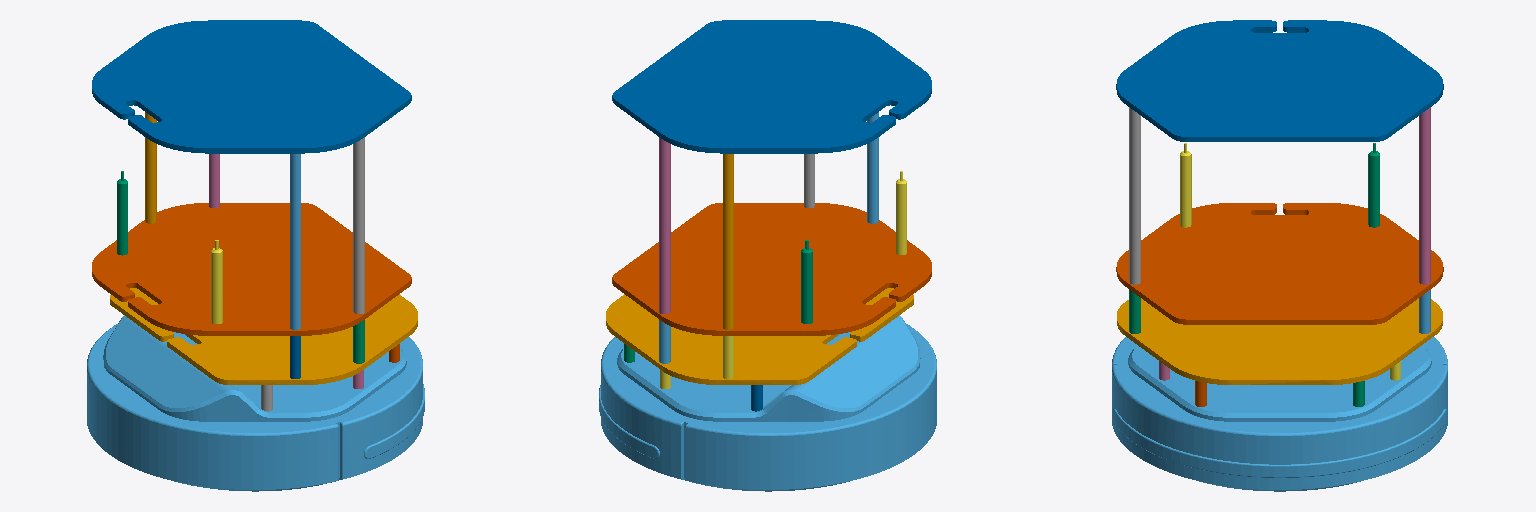
--- Render facts (derived) ---
The picture shows the robot from 3 angles, left to right: view 1: azimuth 30°, elevation 25°; view 2: azimuth 150°, elevation 25°; view 3: azimuth 270°, elevation 25°; orthographic projection.
Model turtlebot with 34 links and 33 joints (2 continuous, 31 fixed), rooted at base_footprint, posed every joint at zero.
Links seen in each view (by area): view 1: base_link, plate_top_link, plate_middle_link, plate_bottom_link, pole_top_1_link, pole_top_3_link, pole_top_2_link, pole_kinect_1_link, pole_kinect_0_link, pole_top_0_link; view 2: base_link, plate_top_link, plate_middle_link, plate_bottom_link, pole_top_0_link, pole_top_2_link, pole_top_3_link, pole_kinect_0_link, pole_kinect_1_link, pole_top_1_link; view 3: base_link, plate_top_link, plate_middle_link, plate_bottom_link, pole_top_0_link, pole_top_1_link, pole_kinect_0_link, pole_kinect_1_link.
Link boxes in pixels (x1,y1,x2,y2): base_link: (87,315,424,491); plate_top_link: (92,20,411,153); plate_middle_link: (92,203,411,335); plate_bottom_link: (110,288,417,384); pole_top_1_link: (353,137,364,313); pole_top_3_link: (290,154,300,329); pole_top_2_link: (145,112,156,223); pole_kinect_1_link: (211,240,222,323); pole_kinect_0_link: (117,171,127,255); pole_top_0_link: (209,154,219,207); base_link: (599,315,936,491); plate_top_link: (612,20,931,153); plate_middle_link: (612,203,931,335); plate_bottom_link: (606,288,913,384); pole_top_0_link: (659,137,670,313); pole_top_2_link: (723,154,733,329); pole_top_3_link: (867,112,878,223); pole_kinect_0_link: (801,240,812,323); pole_kinect_1_link: (896,171,906,254); pole_top_1_link: (804,154,814,207); base_link: (1112,337,1447,491); plate_top_link: (1116,20,1443,141); plate_middle_link: (1116,203,1443,324); plate_bottom_link: (1117,298,1442,384); pole_top_0_link: (1419,107,1430,284); pole_top_1_link: (1129,107,1140,284); pole_kinect_0_link: (1368,143,1379,227); pole_kinect_1_link: (1180,143,1191,227).
Size in the robot's own frame: 0.3518 by 0.35 by 0.4098 metres.
22 mesh visuals loaded from 10 distinct referenced files (9 Collada DAE); not drawn: 1 (reference not matched to a file when rendering).

robot.urdf — turtlebot:
<?xml version="1.0" ?>
<!-- =================================================================================== -->
<!-- |    This document was autogenerated by xacro from robots/kobuki_hexagons_kinect.urdf.xacro | -->
<!-- |    EDITING THIS FILE BY HAND IS NOT RECOMMENDED                                 | -->
<!-- =================================================================================== -->
<!--
    - Base      : kobuki
    - Stacks    : hexagons
    - 3d Sensor : kinect
-->
<robot name="turtlebot" xmlns:controller="http://playerstage.sourceforge.net/gazebo/xmlschema/#controller" xmlns:interface="http://playerstage.sourceforge.net/gazebo/xmlschema/#interface" xmlns:sensor="http://playerstage.sourceforge.net/gazebo/xmlschema/#sensor" xmlns:xacro="http://ros.org/wiki/xacro">
  <link name="base_footprint"/>
  <joint name="base_joint" type="fixed">
    <origin rpy="0 0 0" xyz="0 0 0.0102"/>
    <parent link="base_footprint"/>
    <child link="base_link"/>
  </joint>
  <link name="base_link">
    <visual>
      <geometry>
        <!-- new mesh -->
        <mesh filename="package://kobuki_description/meshes/main_body.dae"/>
      </geometry>
      <origin rpy="0 0 0" xyz="0.001 0 0.05199"/>
    </visual>
    <collision>
      <geometry>
        <cylinder length="0.10938" radius="0.176"/>
      </geometry>
      <origin rpy="0 0 0" xyz="0.0 0 0.05949"/>
    </collision>
    <inertial>
      <mass value="2.4"/>
      <!-- 2.4/2.6 kg for small/big battery pack -->
      <origin xyz="0 0 0"/>
      <inertia ixx="0.0001" ixy="0.0" ixz="0.0" iyy="0.0001" iyz="0.0" izz="0.0001"/>
    </inertial>
  </link>
  <joint name="wheel_left_joint" type="continuous">
    <parent link="base_link"/>
    <child link="wheel_left_link"/>
    <origin rpy="-1.57079632679 0 0" xyz="0.00 0.115 0.0250"/>
    <axis xyz="0 0 1"/>
  </joint>
  <link name="wheel_left_link">
    <visual>
      <geometry>
        <mesh filename="package://kobuki_description/meshes/wheel.dae"/>
      </geometry>
      <origin rpy="0 0 0" xyz="0 0 0"/>
    </visual>
    <collision>
      <geometry>
        <cylinder length="0.0206" radius="0.0352"/>
      </geometry>
      <origin rpy="0 0 0" xyz="0 0 0"/>
    </collision>
    <inertial>
      <mass value="0.01"/>
      <origin xyz="0 0 0"/>
      <inertia ixx="0.001" ixy="0.0" ixz="0.0" iyy="0.001" iyz="0.0" izz="0.001"/>
    </inertial>
  </link>
  <joint name="wheel_right_joint" type="continuous">
    <parent link="base_link"/>
    <child link="wheel_right_link"/>
    <origin rpy="-1.57079632679 0 0" xyz="0.00 -0.115 0.0250"/>
    <axis xyz="0 0 1"/>
  </joint>
  <link name="wheel_right_link">
    <visual>
      <geometry>
        <mesh filename="package://kobuki_description/meshes/wheel.dae"/>
      </geometry>
      <origin rpy="0 0 0" xyz="0 0 0"/>
    </visual>
    <collision>
      <geometry>
        <cylinder length="0.0206" radius="0.0350"/>
      </geometry>
      <origin rpy="0 0 0" xyz="0 0 0"/>
    </collision>
    <inertial>
      <mass value="0.01"/>
      <origin xyz="0 0 0"/>
      <inertia ixx="0.001" ixy="0.0" ixz="0.0" iyy="0.001" iyz="0.0" izz="0.001"/>
    </inertial>
  </link>
  <joint name="caster_front_joint" type="fixed">
    <parent link="base_link"/>
    <child link="caster_front_link"/>
    <origin rpy="-1.57079632679 0 0" xyz="0.115 0.0 0.007"/>
  </joint>
  <link name="caster_front_link">
    <collision>
      <geometry>
        <cylinder length="0.0176" radius="0.017"/>
      </geometry>
      <origin rpy="0 0 0" xyz="0 0 0"/>
    </collision>
    <inertial>
      <mass value="0.01"/>
      <origin xyz="0 0 0"/>
      <inertia ixx="0.001" ixy="0.0" ixz="0.0" iyy="0.001" iyz="0.0" izz="0.001"/>
    </inertial>
  </link>
  <joint name="caster_back_joint" type="fixed">
    <parent link="base_link"/>
    <child link="caster_back_link"/>
    <origin rpy="-1.57079632679 0 0" xyz="-0.135 0.0 0.009"/>
  </joint>
  <link name="caster_back_link">
    <collision>
      <geometry>
        <cylinder length="0.0176" radius="0.017"/>
      </geometry>
      <origin rpy="0 0 0" xyz="0 0 0"/>
    </collision>
    <inertial>
      <mass value="0.01"/>
      <origin xyz="0 0 0"/>
      <inertia ixx="0.001" ixy="0.0" ixz="0.0" iyy="0.001" iyz="0.0" izz="0.001"/>
    </inertial>
  </link>
  <joint name="gyro_joint" type="fixed">
    <axis xyz="0 1 0"/>
    <origin rpy="0 0 0" xyz="0.056 0.062 0.0202"/>
    <parent link="base_link"/>
    <child link="gyro_link"/>
  </joint>
  <link name="gyro_link">
    <inertial>
      <mass value="0.001"/>
      <origin rpy="0 0 0" xyz="0 0 0"/>
      <inertia ixx="0.0001" ixy="0" ixz="0" iyy="0.000001" iyz="0" izz="0.0001"/>
    </inertial>
  </link>
  <joint name="cliff_sensor_left_joint" type="fixed">
    <origin rpy="0 1.57079632679 0" xyz="0.08734 0.13601 0.0214"/>
    <parent link="base_link"/>
    <child link="cliff_sensor_left_link"/>
  </joint>
  <link name="cliff_sensor_left_link">
    <inertial>
      <mass value="0.0001"/>
      <origin xyz="0 0 0"/>
      <inertia ixx="0.0001" ixy="0.0" ixz="0.0" iyy="0.0001" iyz="0.0" izz="0.0001"/>
    </inertial>
  </link>
  <joint name="cliff_sensor_right_joint" type="fixed">
    <origin rpy="0 1.57079632679 0" xyz="0.085 -0.13601 0.0214"/>
    <parent link="base_link"/>
    <child link="cliff_sensor_right_link"/>
  </joint>
  <link name="cliff_sensor_right_link">
    <inertial>
      <mass value="0.0001"/>
      <origin xyz="0 0 0"/>
      <inertia ixx="0.0001" ixy="0.0" ixz="0.0" iyy="0.0001" iyz="0.0" izz="0.0001"/>
    </inertial>
  </link>
  <joint name="cliff_sensor_front_joint" type="fixed">
    <origin rpy="0 1.57079632679 0" xyz="0.156 0.00 0.0214"/>
    <parent link="base_link"/>
    <child link="cliff_sensor_front_link"/>
  </joint>
  <link name="cliff_sensor_front_link">
    <inertial>
      <mass value="0.0001"/>
      <origin xyz="0 0 0"/>
      <inertia ixx="0.0001" ixy="0.0" ixz="0.0" iyy="0.0001" iyz="0.0" izz="0.0001"/>
    </inertial>
  </link>
  <gazebo>
    <controller:gazebo_ros_kobuki name="kobuki_controller" plugin="libgazebo_ros_kobuki.so">
      <left_wheel_joint_name>wheel_left_joint</left_wheel_joint_name>
      <right_wheel_joint_name>wheel_right_joint</right_wheel_joint_name>
      <wheel_separation>.230</wheel_separation>
      <wheel_diameter>0.070</wheel_diameter>
      <torque>1.0</torque>
      <velocity_command_timeout>0.6</velocity_command_timeout>
      <cliff_sensor_left_name>cliff_sensor_left</cliff_sensor_left_name>
      <cliff_sensor_front_name>cliff_sensor_front</cliff_sensor_front_name>
      <cliff_sensor_right_name>cliff_sensor_right</cliff_sensor_right_name>
      <cliff_detection_threshold>0.04</cliff_detection_threshold>
      <bumper_name>bumpers</bumper_name>
      <base_collision_model_link>base_link</base_collision_model_link>
    </controller:gazebo_ros_kobuki>
  </gazebo>
  <gazebo reference="wheel_left_link">
    <mu1 value="10"/>
    <mu2 value="10"/>
    <kp value="100000000.0"/>
    <kd value="10000.0"/>
  </gazebo>
  <gazebo reference="wheel_right_link">
    <mu1 value="10"/>
    <mu2 value="10"/>
    <kp value="100000000.0"/>
    <kd value="10000.0"/>
  </gazebo>
  <gazebo reference="caster_front_link">
    <mu1 value="0"/>
    <mu2 value="0"/>
    <kp value="100000000.0"/>
    <kd value="10000.0"/>
  </gazebo>
  <gazebo reference="caster_back_link">
    <mu1 value="0"/>
    <mu2 value="0"/>
    <kp value="100000000.0"/>
    <kd value="10000.0"/>
  </gazebo>
  <gazebo reference="base_link">
    <sensor:contact name="bumpers">
      <geom>base_footprint_geom_base_link</geom>
      <topic>bumpers</topic>
      <alwaysOn>true</alwaysOn>
      <updateRate>50</updateRate>
    </sensor:contact>
  </gazebo>
  <gazebo reference="cliff_sensor_left_link">
    <sensor:ray name="cliff_sensor_left">
      <alwaysOn>true</alwaysOn>
      <updateRate>50</updateRate>
      <rayCount>50</rayCount>
      <rangeCount>1</rangeCount>
      <resRange>1.0</resRange>
      <minAngle>-0.04361</minAngle>
      <maxAngle>0.04361</maxAngle>
      <minRange>0.01</minRange>
      <maxRange>0.15</maxRange>
      <displayRays>true</displayRays>
    </sensor:ray>
  </gazebo>
  <gazebo reference="cliff_sensor_right_link">
    <sensor:ray name="cliff_sensor_right">
      <alwaysOn>true</alwaysOn>
      <updateRate>50</updateRate>
      <rayCount>50</rayCount>
      <rangeCount>1</rangeCount>
      <resRange>1.0</resRange>
      <minAngle>-2.5</minAngle>
      <maxAngle>2.5</maxAngle>
      <minRange>0.01</minRange>
      <maxRange>0.15</maxRange>
      <displayRays>true</displayRays>
    </sensor:ray>
  </gazebo>
  <gazebo reference="cliff_sensor_front_link">
    <sensor:ray name="cliff_sensor_front">
      <alwaysOn>true</alwaysOn>
      <updateRate>50</updateRate>
      <rayCount>50</rayCount>
      <rangeCount>1</rangeCount>
      <resRange>1.0</resRange>
      <minAngle>-2.5</minAngle>
      <maxAngle>2.5</maxAngle>
      <minRange>0.01</minRange>
      <maxRange>0.15</maxRange>
      <displayRays>true</displayRays>
    </sensor:ray>
  </gazebo>
  <gazebo>
    <controller:gazebo_ros_imu name="imu_controller" plugin="libgazebo_ros_imu.so">
      <alwaysOn>true</alwaysOn>
      <updateRate>50</updateRate>
      <bodyName>gyro_link</bodyName>
      <topicName>/mobile_base/sensors/imu_data</topicName>
      <gaussianNoise>2.89e-06</gaussianNoise>
      <xyzOffsets>0 0 0</xyzOffsets>
      <rpyOffsets>0 0 0</rpyOffsets>
      <interface:position name="gyro_link"/>
    </controller:gazebo_ros_imu>
  </gazebo>
  <joint name="pole_bottom_0_joint" type="fixed">
    <origin rpy="0 0 0" xyz="0.12 0.082 0.1028"/>
    <parent link="base_link"/>
    <child link="pole_bottom_0_link"/>
  </joint>
  <link name="pole_bottom_0_link">
    <visual>
      <origin rpy="0 0 0" xyz="0 0 0"/>
      <geometry>
        <mesh filename="package://turtlebot_description/meshes/stacks/hexagons/pole_bottom.dae"/>
      </geometry>
    </visual>
    <collision>
      <origin rpy="0 0 0" xyz="0 0 0"/>
      <geometry>
        <cylinder length="0.0492" radius=".006"/>
      </geometry>
    </collision>
    <inertial>
      <mass value="0.001"/>
      <origin rpy="0 0 0" xyz="0 0 0"/>
      <inertia ixx="0.0001" ixy="0.0" ixz="0.0" iyy="0.0001" iyz="0.0" izz="0.0001"/>
    </inertial>
  </link>
  <joint name="pole_bottom_1_joint" type="fixed">
    <origin rpy="0 0 0" xyz="0.055 0.12 0.1028"/>
    <parent link="base_link"/>
    <child link="pole_bottom_1_link"/>
  </joint>
  <link name="pole_bottom_1_link">
    <visual>
      <origin rpy="0 0 0" xyz="0 0 0"/>
      <geometry>
        <mesh filename="package://turtlebot_description/meshes/stacks/hexagons/pole_bottom.dae"/>
      </geometry>
    </visual>
    <collision>
      <origin rpy="0 0 0" xyz="0 0 0"/>
      <geometry>
        <cylinder length="0.0492" radius=".006"/>
      </geometry>
    </collision>
    <inertial>
      <mass value="0.001"/>
      <origin rpy="0 0 0" xyz="0 0 0"/>
      <inertia ixx="0.0001" ixy="0.0" ixz="0.0" iyy="0.0001" iyz="0.0" izz="0.0001"/>
    </inertial>
  </link>
  <joint name="pole_bottom_2_joint" type="fixed">
    <origin rpy="0 0 0" xyz="-0.055 0.12 0.1028"/>
    <parent link="base_link"/>
    <child link="pole_bottom_2_link"/>
  </joint>
  <link name="pole_bottom_2_link">
    <visual>
      <origin rpy="0 0 0" xyz="0 0 0"/>
      <geometry>
        <mesh filename="package://turtlebot_description/meshes/stacks/hexagons/pole_bottom.dae"/>
      </geometry>
    </visual>
    <collision>
      <origin rpy="0 0 0" xyz="0 0 0"/>
      <geometry>
        <cylinder length="0.0492" radius=".006"/>
      </geometry>
    </collision>
    <inertial>
      <mass value="0.001"/>
      <origin rpy="0 0 0" xyz="0 0 0"/>
      <inertia ixx="0.0001" ixy="0.0" ixz="0.0" iyy="0.0001" iyz="0.0" izz="0.0001"/>
    </inertial>
  </link>
  <joint name="pole_bottom_3_joint" type="fixed">
    <origin rpy="0 0 0" xyz="0.12 -0.082 0.1028"/>
    <parent link="base_link"/>
    <child link="pole_bottom_3_link"/>
  </joint>
  <link name="pole_bottom_3_link">
    <visual>
      <origin rpy="0 0 0" xyz="0 0 0"/>
      <geometry>
        <mesh filename="package://turtlebot_description/meshes/stacks/hexagons/pole_bottom.dae"/>
      </geometry>
    </visual>
    <collision>
      <origin rpy="0 0 0" xyz="0 0 0"/>
      <geometry>
        <cylinder length="0.0492" radius=".006"/>
      </geometry>
    </collision>
    <inertial>
      <mass value="0.001"/>
      <origin rpy="0 0 0" xyz="0 0 0"/>
      <inertia ixx="0.0001" ixy="0.0" ixz="0.0" iyy="0.0001" iyz="0.0" izz="0.0001"/>
    </inertial>
  </link>
  <joint name="pole_bottom_4_joint" type="fixed">
    <origin rpy="0 0 0" xyz="0.055 -0.12 0.1028"/>
    <parent link="base_link"/>
    <child link="pole_bottom_4_link"/>
  </joint>
  <link name="pole_bottom_4_link">
    <visual>
      <origin rpy="0 0 0" xyz="0 0 0"/>
      <geometry>
        <mesh filename="package://turtlebot_description/meshes/stacks/hexagons/pole_bottom.dae"/>
      </geometry>
    </visual>
    <collision>
      <origin rpy="0 0 0" xyz="0 0 0"/>
      <geometry>
        <cylinder length="0.0492" radius=".006"/>
      </geometry>
    </collision>
    <inertial>
      <mass value="0.001"/>
      <origin rpy="0 0 0" xyz="0 0 0"/>
      <inertia ixx="0.0001" ixy="0.0" ixz="0.0" iyy="0.0001" iyz="0.0" izz="0.0001"/>
    </inertial>
  </link>
  <joint name="pole_bottom_5_joint" type="fixed">
    <origin rpy="0 0 0" xyz="-0.055 -0.12 0.1028"/>
    <parent link="base_link"/>
    <child link="pole_bottom_5_link"/>
  </joint>
  <link name="pole_bottom_5_link">
    <visual>
      <origin rpy="0 0 0" xyz="0 0 0"/>
      <geometry>
        <mesh filename="package://turtlebot_description/meshes/stacks/hexagons/pole_bottom.dae"/>
      </geometry>
    </visual>
    <collision>
      <origin rpy="0 0 0" xyz="0 0 0"/>
      <geometry>
        <cylinder length="0.0492" radius=".006"/>
      </geometry>
    </collision>
    <inertial>
      <mass value="0.001"/>
      <origin rpy="0 0 0" xyz="0 0 0"/>
      <inertia ixx="0.0001" ixy="0.0" ixz="0.0" iyy="0.0001" iyz="0.0" izz="0.0001"/>
    </inertial>
  </link>
  <joint name="plate_bottom_joint" type="fixed">
    <origin rpy="0 0 0" xyz="0.02364 0.0 0.1306"/>
    <parent link="base_link"/>
    <child link="plate_bottom_link"/>
  </joint>
  <link name="plate_bottom_link">
    <visual>
      <origin rpy="0 0 0" xyz="0 0 0"/>
      <geometry>
        <mesh filename="package://turtlebot_description/meshes/stacks/hexagons/plate_bottom.dae"/>
      </geometry>
    </visual>
    <collision>
      <origin rpy="0 0 0" xyz="0 0 0"/>
      <geometry>
        <box size="0.26727 0.340 0.006"/>
      </geometry>
    </collision>
    <inertial>
      <mass value="0.01"/>
      <origin xyz="0 0 0"/>
      <inertia ixx="0.01" ixy="0.0" ixz="0.0" iyy="0.01" iyz="0.0" izz="0.01"/>
    </inertial>
  </link>
  <joint name="pole_middle_0_joint" type="fixed">
    <origin rpy="0 0 0" xyz="0.0381 0.1505 0.164"/>
    <parent link="base_link"/>
    <child link="pole_middle_0_link"/>
  </joint>
  <link name="pole_middle_0_link">
    <visual>
      <origin rpy="0 3.14159265359 0" xyz="0 0 0"/>
      <geometry>
        <mesh filename="package://turtlebot_description/meshes/stacks/hexagons/pole_middle.dae"/>
      </geometry>
    </visual>
    <collision>
      <origin rpy="0 0 0" xyz="0 0 0"/>
      <geometry>
        <cylinder length="0.0608" radius=".006"/>
      </geometry>
    </collision>
    <inertial>
      <mass value="0.001"/>
      <origin xyz="0 0 0"/>
      <inertia ixx="0.0001" ixy="0.0" ixz="0.0" iyy="0.0001" iyz="0.0" izz="0.0001"/>
    </inertial>
  </link>
  <joint name="pole_middle_1_joint" type="fixed">
    <origin rpy="0 0 0" xyz="0.0381 -0.1505 0.164"/>
    <parent link="base_link"/>
    <child link="pole_middle_1_link"/>
  </joint>
  <link name="pole_middle_1_link">
    <visual>
      <origin rpy="0 3.14159265359 0" xyz="0 0 0"/>
      <geometry>
        <mesh filename="package://turtlebot_description/meshes/stacks/hexagons/pole_middle.dae"/>
      </geometry>
    </visual>
    <collision>
      <origin rpy="0 0 0" xyz="0 0 0"/>
      <geometry>
        <cylinder length="0.0608" radius=".006"/>
      </geometry>
    </collision>
    <inertial>
      <mass value="0.001"/>
      <origin xyz="0 0 0"/>
      <inertia ixx="0.0001" ixy="0.0" ixz="0.0" iyy="0.0001" iyz="0.0" izz="0.0001"/>
    </inertial>
  </link>
  <joint name="pole_middle_2_joint" type="fixed">
    <origin rpy="0 0 0" xyz="-0.0381 0.1505 0.164"/>
    <parent link="base_link"/>
    <child link="pole_middle_2_link"/>
  </joint>
  <link name="pole_middle_2_link">
    <visual>
      <origin rpy="0 3.14159265359 0" xyz="0 0 0"/>
      <geometry>
        <mesh filename="package://turtlebot_description/meshes/stacks/hexagons/pole_middle.dae"/>
      </geometry>
    </visual>
    <collision>
      <origin rpy="0 0 0" xyz="0 0 0"/>
      <geometry>
        <cylinder length="0.0608" radius=".006"/>
      </geometry>
    </collision>
    <inertial>
      <mass value="0.001"/>
      <origin xyz="0 0 0"/>
      <inertia ixx="0.0001" ixy="0.0" ixz="0.0" iyy="0.0001" iyz="0.0" izz="0.0001"/>
    </inertial>
  </link>
  <joint name="pole_middle_3_joint" type="fixed">
    <origin rpy="0 0 0" xyz="-0.0381 -0.1505 0.164"/>
    <parent link="base_link"/>
    <child link="pole_middle_3_link"/>
  </joint>
  <link name="pole_middle_3_link">
    <visual>
      <origin rpy="0 3.14159265359 0" xyz="0 0 0"/>
      <geometry>
        <mesh filename="package://turtlebot_description/meshes/stacks/hexagons/pole_middle.dae"/>
      </geometry>
    </visual>
    <collision>
      <origin rpy="0 0 0" xyz="0 0 0"/>
      <geometry>
        <cylinder length="0.0608" radius=".006"/>
      </geometry>
    </collision>
    <inertial>
      <mass value="0.001"/>
      <origin xyz="0 0 0"/>
      <inertia ixx="0.0001" ixy="0.0" ixz="0.0" iyy="0.0001" iyz="0.0" izz="0.0001"/>
    </inertial>
  </link>
  <joint name="plate_middle_joint" type="fixed">
    <origin rpy="0 0 0" xyz="-0.01364 0.0 0.1874"/>
    <parent link="base_link"/>
    <child link="plate_middle_link"/>
  </joint>
  <link name="plate_middle_link">
    <visual>
      <origin rpy="0 0 0" xyz="0 0 0"/>
      <geometry>
        <mesh filename="package://turtlebot_description/meshes/stacks/hexagons/plate_middle.dae"/>
      </geometry>
    </visual>
    <collision>
      <origin rpy="0 0 0" xyz="0.0 0.0 0.0"/>
      <geometry>
        <box size="0.28727 0.340 0.006"/>
      </geometry>
    </collision>
    <inertial>
      <mass value="0.01"/>
      <origin xyz="0 0 0"/>
      <inertia ixx="0.01" ixy="0.0" ixz="0.0" iyy="0.01" iyz="0.0" izz="0.01"/>
    </inertial>
  </link>
  <joint name="pole_top_0_joint" type="fixed">
    <origin rpy="0 0 0" xyz="0.0381 0.1505 0.292"/>
    <parent link="base_link"/>
    <child link="pole_top_0_link"/>
  </joint>
  <link name="pole_top_0_link">
    <visual>
      <origin rpy="0 0 0" xyz=" 0 0 0"/>
      <geometry>
        <mesh filename="package://turtlebot_description/meshes/stacks/hexagons/pole_top.dae"/>
      </geometry>
    </visual>
    <collision>
      <origin rpy="0 0 0" xyz="0 0 0"/>
      <geometry>
        <cylinder length="0.2032" radius=".006"/>
      </geometry>
    </collision>
    <inertial>
      <mass value="0.001"/>
      <origin xyz="0 0 0"/>
      <inertia ixx="0.0001" ixy="0.0" ixz="0.0" iyy="0.0001" iyz="0.0" izz="0.0001"/>
    </inertial>
  </link>
  <joint name="pole_top_1_joint" type="fixed">
    <origin rpy="0 0 0" xyz="0.0381 -0.1505 0.292"/>
    <parent link="base_link"/>
    <child link="pole_top_1_link"/>
  </joint>
  <link name="pole_top_1_link">
    <visual>
      <origin rpy="0 0 0" xyz=" 0 0 0"/>
      <geometry>
        <mesh filename="package://turtlebot_description/meshes/stacks/hexagons/pole_top.dae"/>
      </geometry>
    </visual>
    <collision>
      <origin rpy="0 0 0" xyz="0 0 0"/>
      <geometry>
        <cylinder length="0.2032" radius=".006"/>
      </geometry>
    </collision>
    <inertial>
      <mass value="0.001"/>
      <origin xyz="0 0 0"/>
      <inertia ixx="0.0001" ixy="0.0" ixz="0.0" iyy="0.0001" iyz="0.0" izz="0.0001"/>
    </inertial>
  </link>
  <joint name="pole_top_2_joint" type="fixed">
    <origin rpy="0 0 0" xyz="-0.0381 0.1505 0.292"/>
    <parent link="base_link"/>
    <child link="pole_top_2_link"/>
  </joint>
  <link name="pole_top_2_link">
    <visual>
      <origin rpy="0 0 0" xyz=" 0 0 0"/>
      <geometry>
        <mesh filename="package://turtlebot_description/meshes/stacks/hexagons/pole_top.dae"/>
      </geometry>
    </visual>
    <collision>
      <origin rpy="0 0 0" xyz="0 0 0"/>
      <geometry>
        <cylinder length="0.2032" radius=".006"/>
      </geometry>
    </collision>
    <inertial>
      <mass value="0.001"/>
      <origin xyz="0 0 0"/>
      <inertia ixx="0.0001" ixy="0.0" ixz="0.0" iyy="0.0001" iyz="0.0" izz="0.0001"/>
    </inertial>
  </link>
  <joint name="pole_top_3_joint" type="fixed">
    <origin rpy="0 0 0" xyz="-0.0381 -0.1505 0.292"/>
    <parent link="base_link"/>
    <child link="pole_top_3_link"/>
  </joint>
  <link name="pole_top_3_link">
    <visual>
      <origin rpy="0 0 0" xyz=" 0 0 0"/>
      <geometry>
        <mesh filename="package://turtlebot_description/meshes/stacks/hexagons/pole_top.dae"/>
      </geometry>
    </visual>
    <collision>
      <origin rpy="0 0 0" xyz="0 0 0"/>
      <geometry>
        <cylinder length="0.2032" radius=".006"/>
      </geometry>
    </collision>
    <inertial>
      <mass value="0.001"/>
      <origin xyz="0 0 0"/>
      <inertia ixx="0.0001" ixy="0.0" ixz="0.0" iyy="0.0001" iyz="0.0" izz="0.0001"/>
    </inertial>
  </link>
  <joint name="pole_kinect_0_joint" type="fixed">
    <origin rpy="0 0 0" xyz="-0.1024 0.098 0.2372"/>
    <parent link="base_link"/>
    <child link="pole_kinect_0_link"/>
  </joint>
  <link name="pole_kinect_0_link">
    <visual>
      <origin rpy="0 0 0" xyz="0 0 0"/>
      <!--         <origin xyz="0 0 0" rpy="${-M_PI/2} ${M_PI} 0"/> -->
      <geometry>
        <mesh filename="package://turtlebot_description/meshes/stacks/hexagons/pole_kinect.dae"/>
      </geometry>
    </visual>
    <collision>
      <origin rpy="0 0 0" xyz="0 0 0"/>
      <geometry>
        <cylinder length="0.0936" radius="0.006"/>
      </geometry>
    </collision>
    <inertial>
      <mass value="0.001"/>
      <origin xyz="0 0 0"/>
      <inertia ixx="0.0001" ixy="0.0" ixz="0.0" iyy="0.0001" iyz="0.0" izz="0.0001"/>
    </inertial>
  </link>
  <joint name="pole_kinect_1_joint" type="fixed">
    <origin rpy="0 0 0" xyz="-0.1024 -0.098 0.2372"/>
    <parent link="base_link"/>
    <child link="pole_kinect_1_link"/>
  </joint>
  <link name="pole_kinect_1_link">
    <visual>
      <origin rpy="0 0 0" xyz="0 0 0"/>
      <!--         <origin xyz="0 0 0" rpy="${-M_PI/2} ${M_PI} 0"/> -->
      <geometry>
        <mesh filename="package://turtlebot_description/meshes/stacks/hexagons/pole_kinect.dae"/>
      </geometry>
    </visual>
    <collision>
      <origin rpy="0 0 0" xyz="0 0 0"/>
      <geometry>
        <cylinder length="0.0936" radius="0.006"/>
      </geometry>
    </collision>
    <inertial>
      <mass value="0.001"/>
      <origin xyz="0 0 0"/>
      <inertia ixx="0.0001" ixy="0.0" ixz="0.0" iyy="0.0001" iyz="0.0" izz="0.0001"/>
    </inertial>
  </link>
  <joint name="plate_top_joint" type="fixed">
    <origin rpy="0 0 0" xyz="-0.01364 0.0  0.3966"/>
    <parent link="base_link"/>
    <child link="plate_top_link"/>
  </joint>
  <link name="plate_top_link">
    <visual>
      <origin rpy="0 0 0" xyz="0 0 0"/>
      <geometry>
        <mesh filename="package://turtlebot_description/meshes/stacks/hexagons/plate_top.dae"/>
      </geometry>
    </visual>
    <collision>
      <origin rpy="0 0 0" xyz="0 0 0"/>
      <geometry>
        <box size="0.28727 0.340 0.006"/>
      </geometry>
    </collision>
    <inertial>
      <mass value="0.01"/>
      <origin xyz="0 0 0"/>
      <inertia ixx="0.01" ixy="0.0" ixz="0.0" iyy="0.01" iyz="0.0" izz="0.01"/>
    </inertial>
  </link>
  <joint name="camera_rgb_joint" type="fixed">
    <origin rpy="0 0 0" xyz="-0.087 -0.0125 1.000"/>
    <parent link="base_link"/>
    <child link="camera_rgb_frame"/>
  </joint>
  <link name="camera_rgb_frame">
    <inertial>
      <mass value="0.001"/>
      <origin xyz="0 0 0"/>
      <inertia ixx="0.0001" ixy="0.0" ixz="0.0" iyy="0.0001" iyz="0.0" izz="0.0001"/>
    </inertial>
  </link>
  <joint name="camera_rgb_optical_joint" type="fixed">
    <origin rpy="-1.57079632679 0 -1.57079632679" xyz="0 0 0"/>
    <parent link="camera_rgb_frame"/>
    <child link="camera_rgb_optical_frame"/>
  </joint>
  <link name="camera_rgb_optical_frame">
    <inertial>
      <mass value="0.001"/>
      <origin xyz="0 0 0"/>
      <inertia ixx="0.0001" ixy="0.0" ixz="0.0" iyy="0.0001" iyz="0.0" izz="0.0001"/>
    </inertial>
  </link>
  <joint name="camera_joint" type="fixed">
    <origin rpy="0 0 0" xyz="-0.031 0.0125 -0.016"/>
    <parent link="camera_rgb_frame"/>
    <child link="camera_link"/>
  </joint>
  <link name="camera_link">
    <visual>
      <origin rpy="0 0 1.57079632679" xyz="0 0 0"/>
      <geometry>
        <mesh filename="package://turtlebot_description/meshes/sensors/kinect.dae"/>
      </geometry>
    </visual>
    <collision>
      <origin rpy="0 0 0" xyz="-0.0315 0.0 -0.017"/>
      <geometry>
        <box size="0.07271 0.27794 0.073"/>
      </geometry>
    </collision>
    <inertial>
      <mass value="0.001"/>
      <origin xyz="0 0 0"/>
      <inertia ixx="0.0001" ixy="0.0" ixz="0.0" iyy="0.0001" iyz="0.0" izz="0.0001"/>
    </inertial>
  </link>
  <joint name="camera_depth_joint" type="fixed">
    <origin rpy="0 0 0" xyz="0 0.025 0"/>
    <parent link="camera_rgb_frame"/>
    <child link="camera_depth_frame"/>
  </joint>
  <link name="camera_depth_frame">
    <inertial>
      <mass value="0.001"/>
      <origin xyz="0 0 0"/>
      <inertia ixx="0.0001" ixy="0.0" ixz="0.0" iyy="0.0001" iyz="0.0" izz="0.0001"/>
    </inertial>
  </link>
  <joint name="camera_depth_optical_joint" type="fixed">
    <origin rpy="-1.57079632679 0 -1.57079632679" xyz="0 0 0"/>
    <parent link="camera_depth_frame"/>
    <child link="camera_depth_optical_frame"/>
  </joint>
  <link name="camera_depth_optical_frame">
    <inertial>
      <mass value="0.001"/>
      <origin xyz="0 0 0"/>
      <inertia ixx="0.0001" ixy="0.0" ixz="0.0" iyy="0.0001" iyz="0.0" izz="0.0001"/>
    </inertial>
  </link>
</robot>
